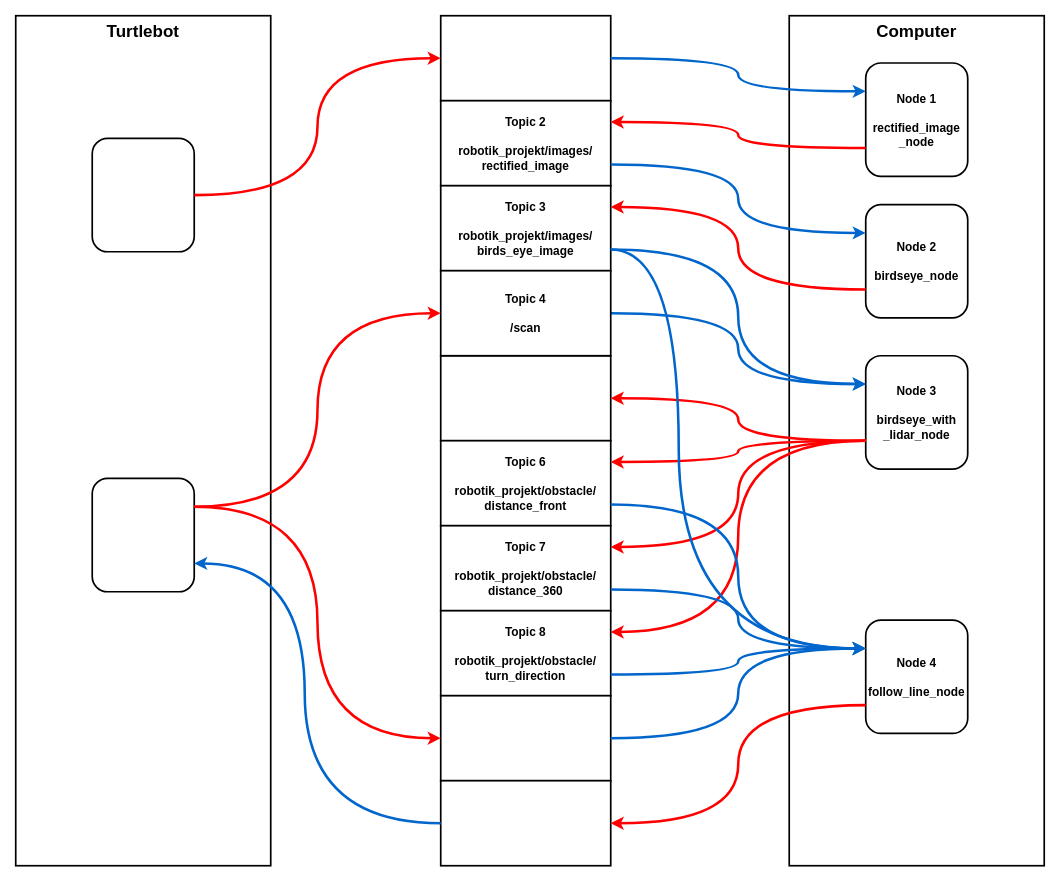
The diagram is 1059 pixels wide and 881 high, and some of its shapes have lost their labels. Here are the shapes that lost their labels. From the top down, the centre of each, then its label:
At pixel 525 57: "Topic 1 raspicam_node/image/ compressed".
At pixel 143 194: "Node 1 turtlebot3 _rpicamera".
At pixel 525 397: "Topic 5 robotik_projekt/images/ birdseye_with_lidar_image".
At pixel 143 534: "Node 2 turtlebot3 _robot".
At pixel 525 737: "Topic 9 /odom".
At pixel 525 822: "Topic 10 /cmd_vel".
